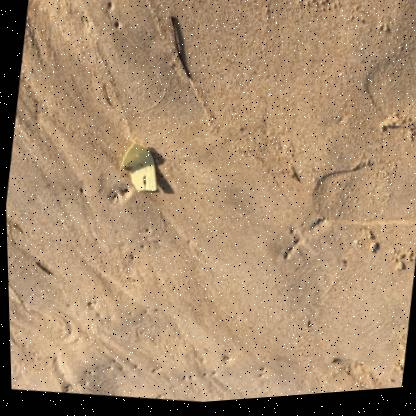Waste: (118, 144, 154, 192)
